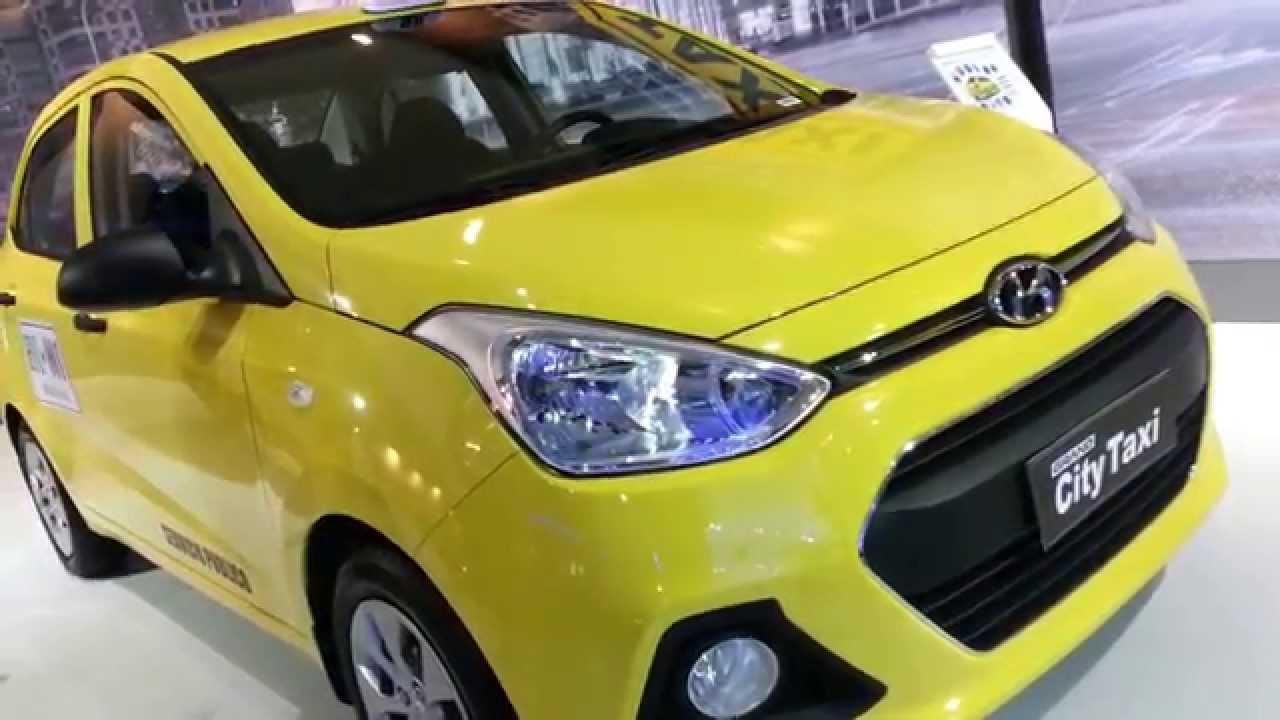taxi: (4, 10, 1280, 720)
